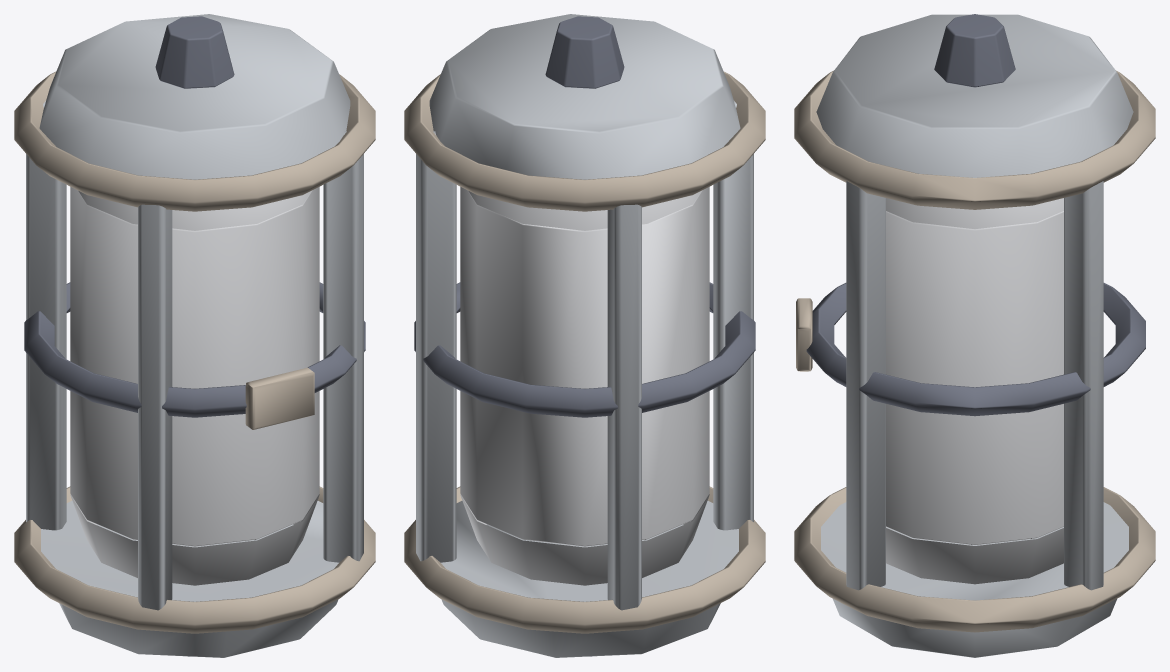
The model's file is mana_cell.glb.
3 views of the same model, side by side, from view 1: azimuth 30°, elevation 25°; view 2: azimuth 150°, elevation 25°; view 3: azimuth 270°, elevation 25° (orthographic).
Visible parts, largest first — view 1: mana_cell; view 2: mana_cell; view 3: mana_cell.
Boxes of the visible parts, <box> form: mana_cell: <box>14,14,375,657</box>; mana_cell: <box>404,14,765,657</box>; mana_cell: <box>794,14,1155,657</box>.
Bounding box in the file's own units: 0.441 × 0.82 × 0.4343.
